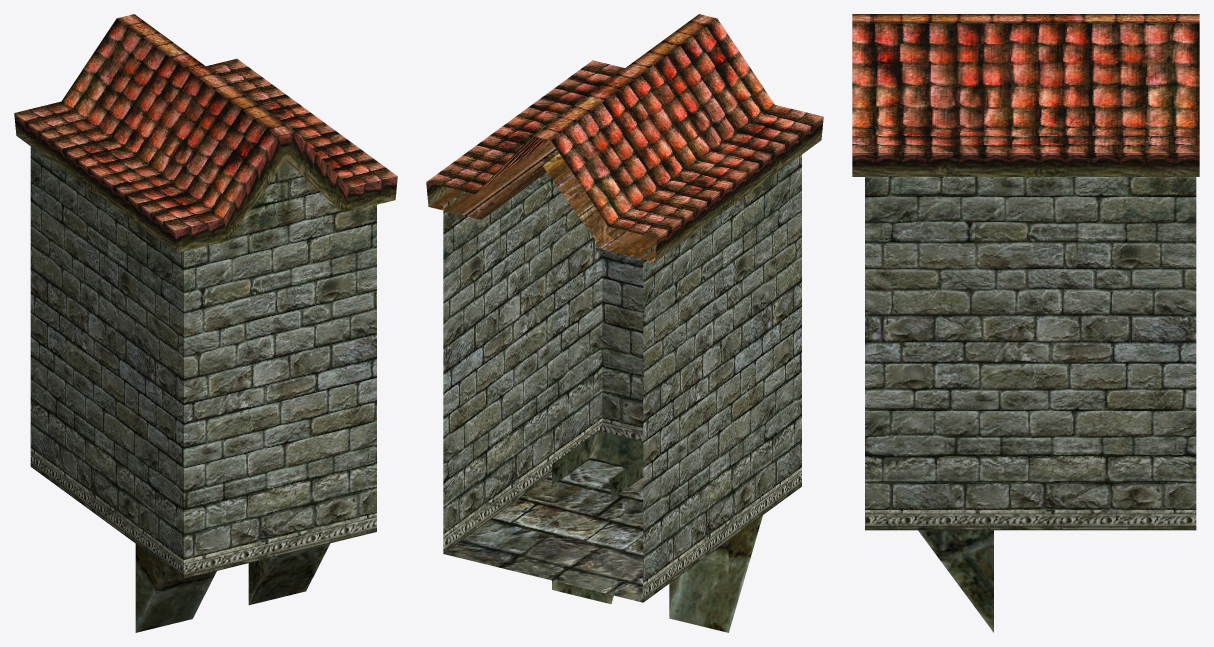
The picture shows the model from 3 angles, left to right: view 1: azimuth 30°, elevation 25°; view 2: azimuth 150°, elevation 25°; view 3: azimuth 270°, elevation 25°; orthographic projection. The views are drawn at different scales.
Parts seen in each view (by area): view 1: cc05; view 2: cc05; view 3: cc05.
Boxes of the visible parts, box(x1,y1,x2,y2) form: cc05: box(14, 14, 397, 632); cc05: box(426, 14, 823, 632); cc05: box(852, 14, 1199, 632).
Bounding box in the file's own units: 3.47 × 7.82 × 4.33.
7 materials, 7 textured.
